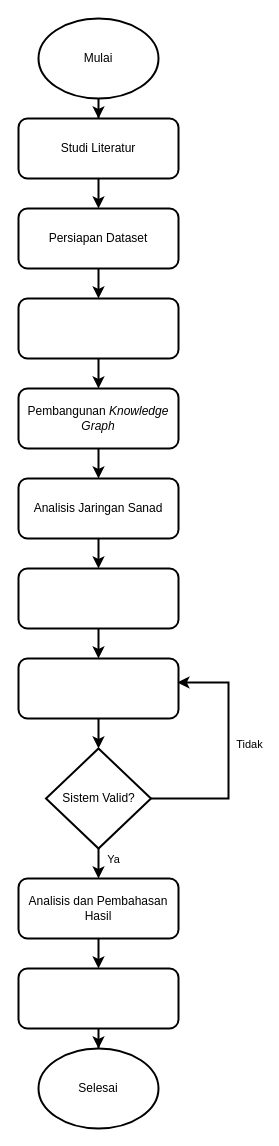
This 279x1146 diagram has some shape labels left out. The centre of each missing label's shape, as x and y in pixels:
Penulisan Laporan: the point at 98,998
Penyimpanan ke Basis Data: the point at 98,598
Perancangan dan Pembangunan Dashboard: the point at 98,688
Pra-Pemrosesan Data: the point at 98,328
